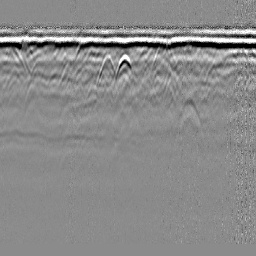cavity: (114, 52, 135, 81)
